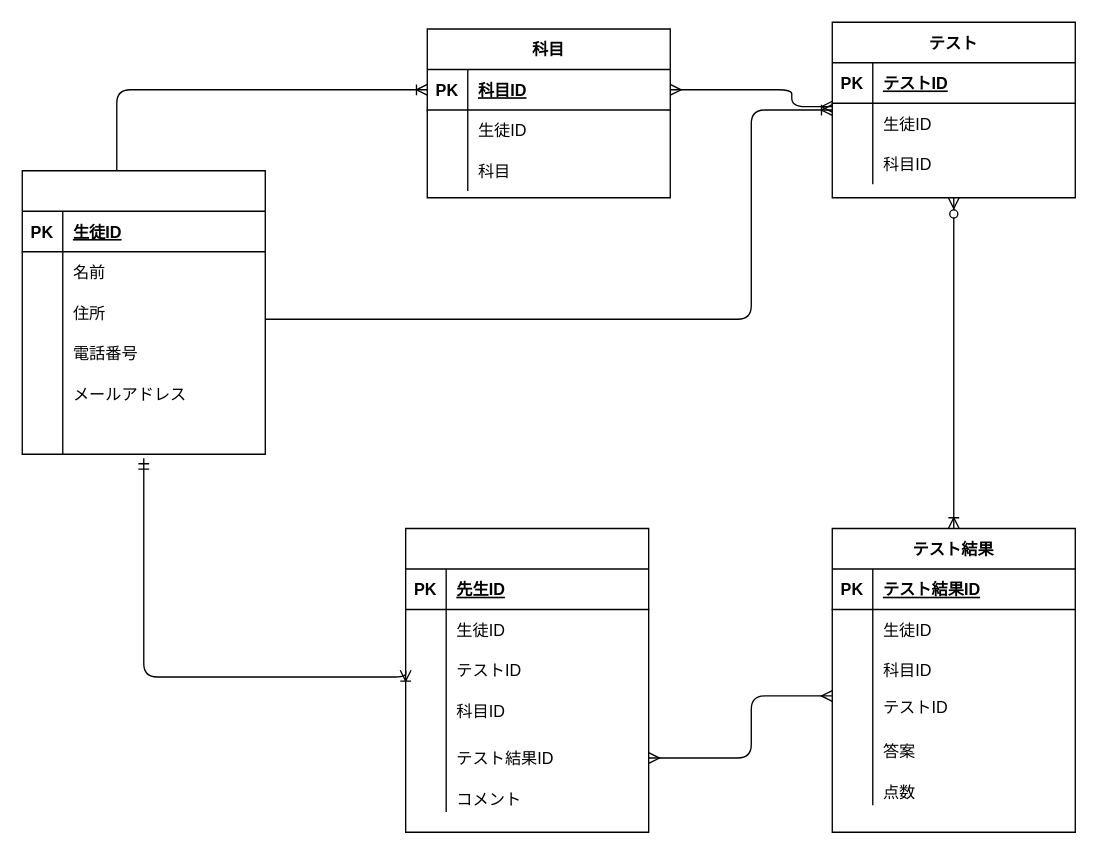
This 1098x855 diagram has some shape labels left out. Each missing label, with the box of its shape:
先生: (404, 527, 649, 832)
生徒: (21, 169, 265, 454)
